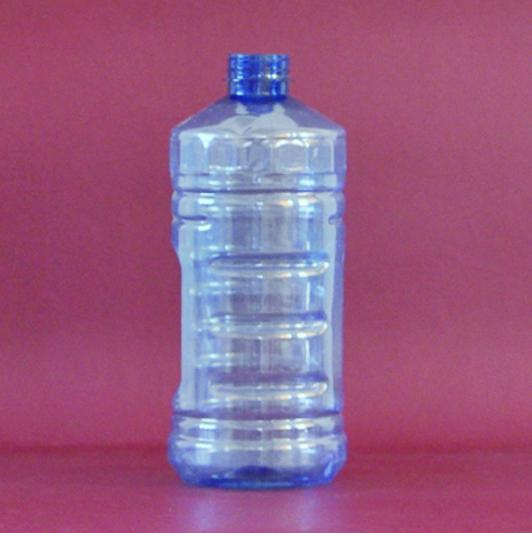plastic: (166, 55, 349, 493)
